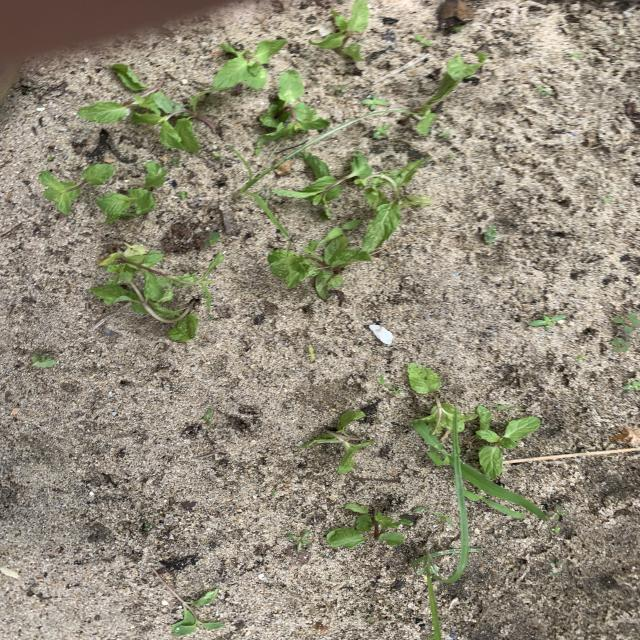crop: (90, 245, 224, 341), (268, 227, 371, 301), (407, 363, 491, 452), (356, 158, 432, 253), (77, 63, 182, 125), (273, 153, 371, 219), (416, 53, 487, 137), (150, 563, 225, 637), (258, 70, 330, 147), (300, 410, 374, 474), (149, 90, 219, 152), (476, 417, 540, 480), (326, 503, 415, 548), (39, 163, 115, 215), (104, 161, 167, 223), (309, 0, 369, 62), (214, 39, 286, 90)
weed: (423, 435, 526, 640), (234, 149, 300, 241), (610, 312, 640, 353), (360, 95, 404, 119), (528, 315, 567, 332), (308, 344, 316, 362)
